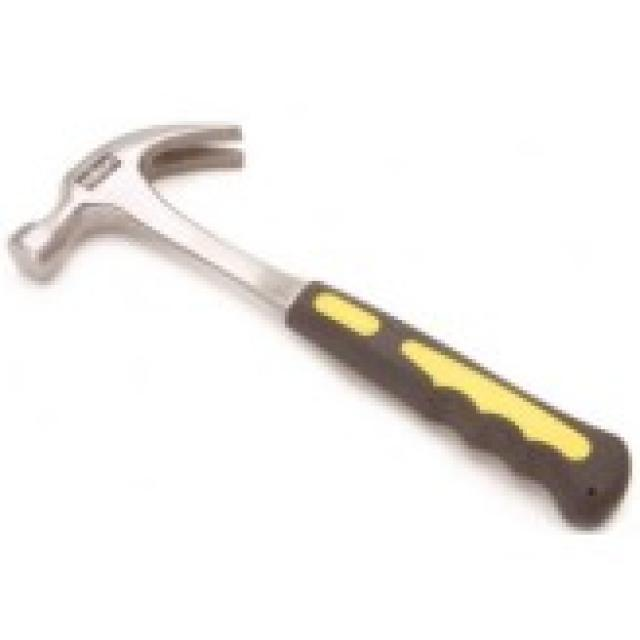hammer: (0, 109, 637, 536)
